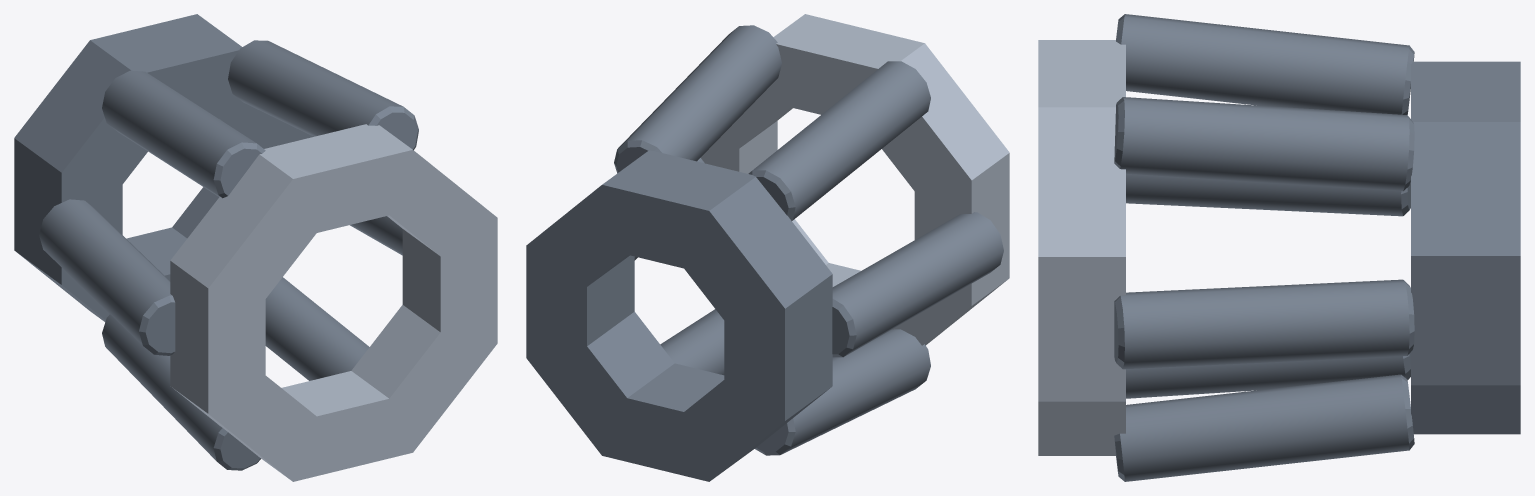
The model's file is Module_FlashHider_v001.fbx.
The picture shows the model from 3 angles, left to right: view 1: azimuth 30°, elevation 25°; view 2: azimuth 150°, elevation 25°; view 3: azimuth 270°, elevation 25°; orthographic projection. The views are drawn at different scales.
Visible parts, largest first — view 1: Module_FlashHider__RECEIVER_MESH; view 2: Module_FlashHider__RECEIVER_MESH; view 3: Module_FlashHider__RECEIVER_MESH.
Part boxes in pixels (x1,y1,x2,y2): Module_FlashHider__RECEIVER_MESH: [14, 14, 497, 481]; Module_FlashHider__RECEIVER_MESH: [526, 14, 1009, 481]; Module_FlashHider__RECEIVER_MESH: [1038, 14, 1520, 481].
Size of the model in its own units: 0.4284 by 0.3804 by 0.44.
